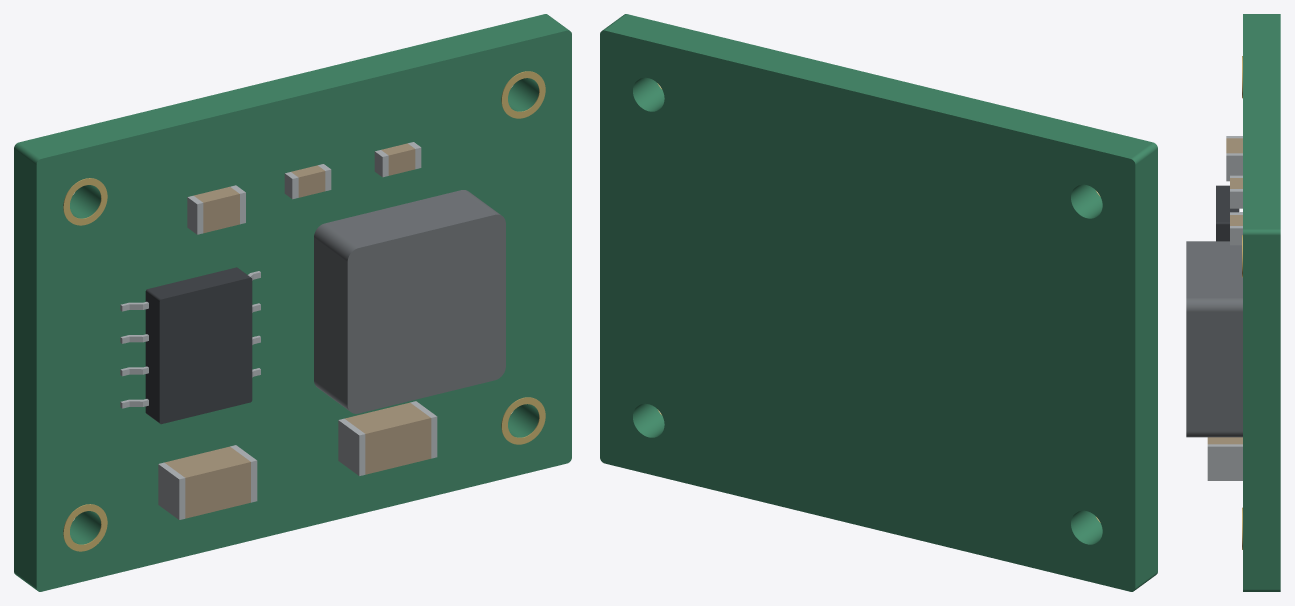
The picture shows the model from 3 angles, left to right: view 1: azimuth 30°, elevation 25°; view 2: azimuth 150°, elevation 25°; view 3: azimuth 270°, elevation 25°; orthographic projection. The views are drawn at different scales.
Visible parts, largest first — view 1: pcb_0, 4r7_inductor_0, mp1584_package_0, passive_1_body_0, passive_0_body_0, passive_2_body_0, passive_0_terminations_0, passive_1_terminations_0, top_plated_pads_2, top_plated_pads_3, top_plated_pads_0, top_plated_pads_1 (+2 smaller); view 2: pcb_0; view 3: pcb_0, 4r7_inductor_0, passive_1_terminations_1, mp1584_package_0, passive_2_terminations_1, passive_1_body_0, passive_2_body_0, passive_3_terminations_1, passive_4_terminations_1.
Part boxes in pixels (x1,y1,x2,y2): pcb_0: [14, 14, 571, 591]; 4r7_inductor_0: [314, 190, 505, 413]; mp1584_package_0: [145, 267, 252, 424]; passive_1_body_0: [344, 402, 431, 474]; passive_0_body_0: [164, 446, 250, 518]; passive_2_body_0: [194, 186, 239, 233]; passive_0_terminations_0: [158, 462, 185, 519]; passive_1_terminations_0: [338, 418, 365, 475]; top_plated_pads_2: [501, 397, 545, 444]; top_plated_pads_3: [501, 71, 545, 118]; top_plated_pads_0: [63, 504, 107, 551]; top_plated_pads_1: [63, 178, 107, 225]; pcb_0: [600, 14, 1157, 591]; pcb_0: [1243, 14, 1280, 591]; 4r7_inductor_0: [1186, 241, 1242, 437]; passive_1_terminations_1: [1207, 444, 1242, 480]; mp1584_package_0: [1216, 185, 1239, 241]; passive_2_terminations_1: [1226, 153, 1242, 181]; passive_1_body_0: [1207, 437, 1242, 444]; passive_2_body_0: [1226, 138, 1242, 153]; passive_3_terminations_1: [1230, 189, 1242, 208]; passive_4_terminations_1: [1230, 226, 1242, 245].
Bounding box in the file's own units: 0.022 × 0.017 × 0.004.
